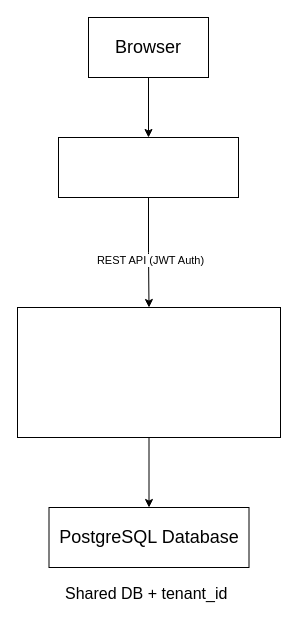
This 298x635 diagram has some shape labels left out. Here are the shapes that lost their labels. From the top down, the centre of each, then its label:
At point (148, 167): "Frontend (React)".
At point (148, 372): "Backend API (Node + Express) Auth RBAC Tenant Isolation".
